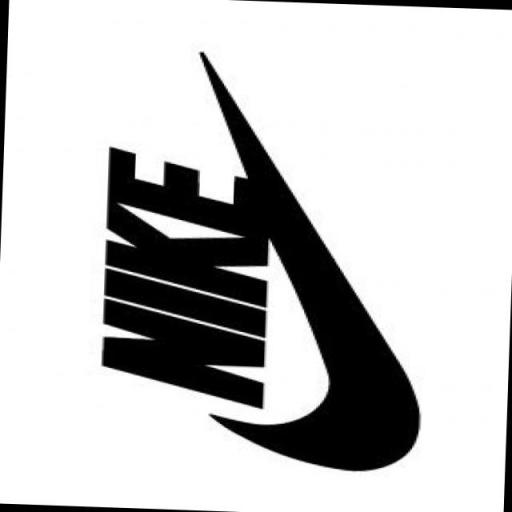Nike: (212, 106, 431, 475), (96, 140, 275, 410)
